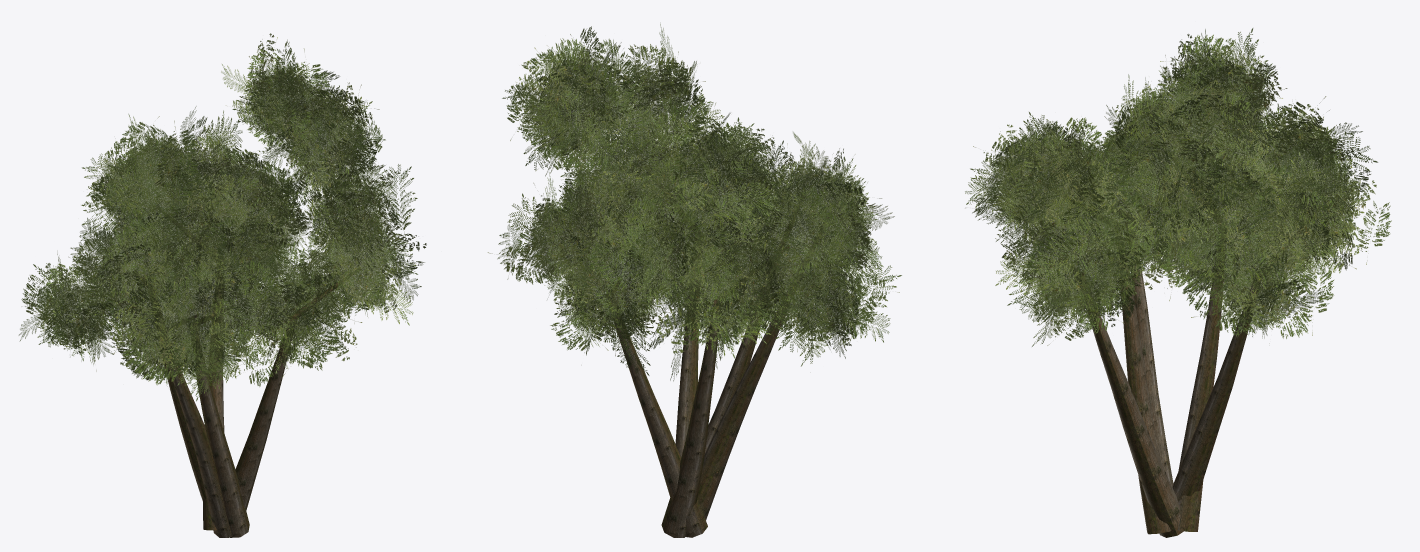
File: tamarisk_2.glb
3 renders of one model, left to right at view 1: azimuth 30°, elevation 25°; view 2: azimuth 150°, elevation 25°; view 3: azimuth 270°, elevation 25°, orthographic. The views are drawn at different scales.
Parts seen in each view (by area): view 1: tamarisk; view 2: tamarisk; view 3: tamarisk.
Part boxes in pixels (bbox=[...]): tamarisk: bbox=[18, 33, 426, 537]; tamarisk: bbox=[488, 23, 901, 537]; tamarisk: bbox=[965, 28, 1391, 537].
Size of the model in its own units: 6.34 by 7.6 by 5.92.
2 materials, 2 textured.
